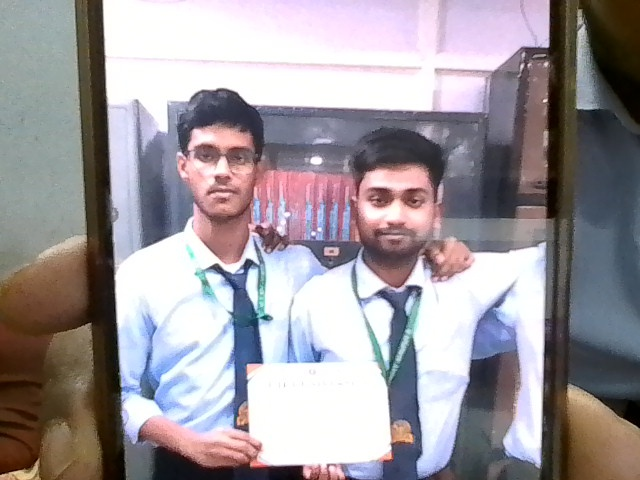real: (168, 84, 274, 235), (336, 130, 439, 276)
